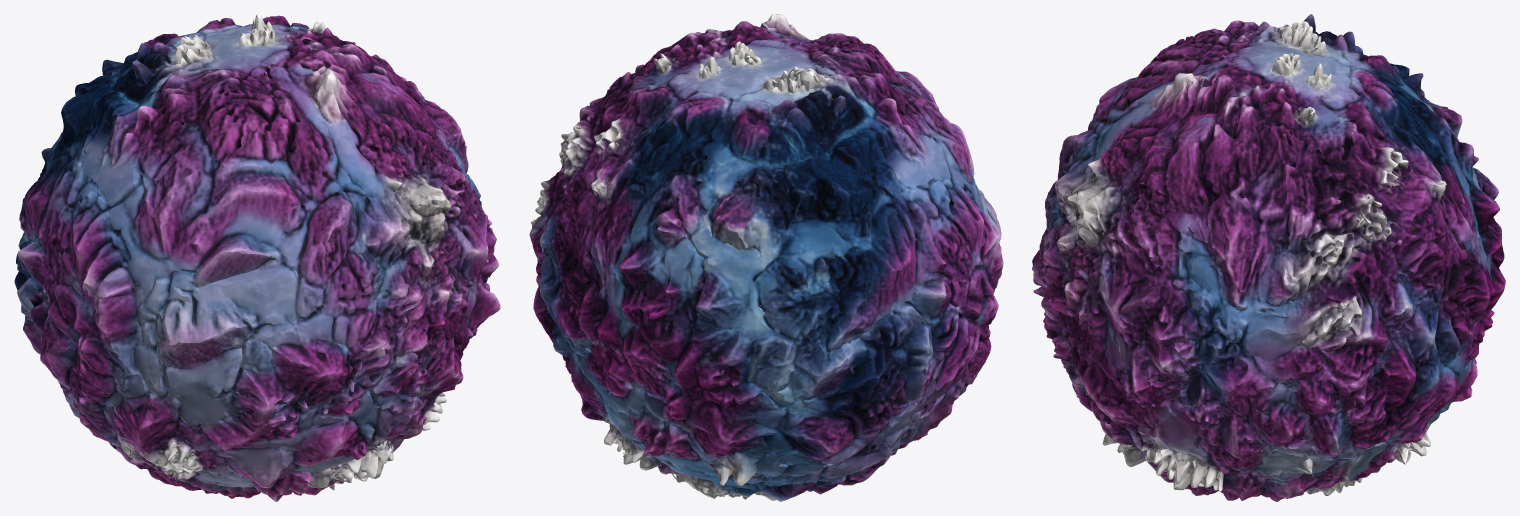
3 renders of one model, left to right at view 1: azimuth 30°, elevation 25°; view 2: azimuth 150°, elevation 25°; view 3: azimuth 270°, elevation 25°, orthographic.
Visible parts, largest first — view 1: world; view 2: world; view 3: world.
Part boxes in pixels (x1=…): world: x1=14, y1=14, x2=500, y2=501; world: x1=529, y1=14, x2=1003, y2=501; world: x1=1032, y1=14, x2=1505, y2=501.
Bounding box in the file's own units: 0.998 × 1 × 0.998.
1 material, 1 textured.
